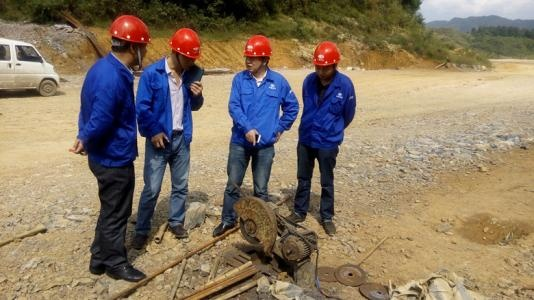red: (109, 15, 148, 66), (168, 26, 200, 70), (242, 35, 271, 79), (310, 41, 342, 79)
